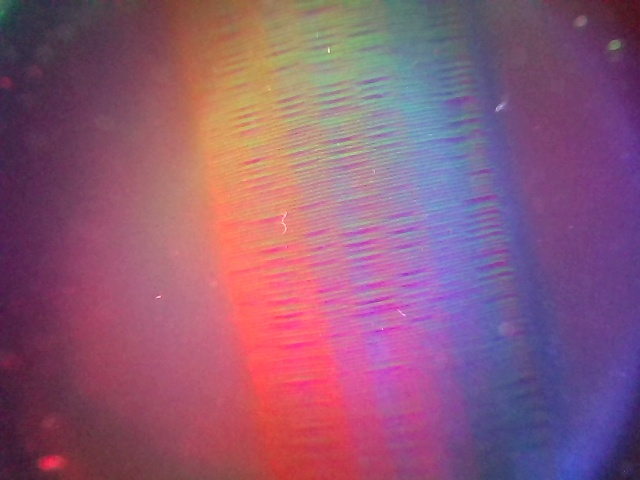contact: (191, 0, 557, 473)
